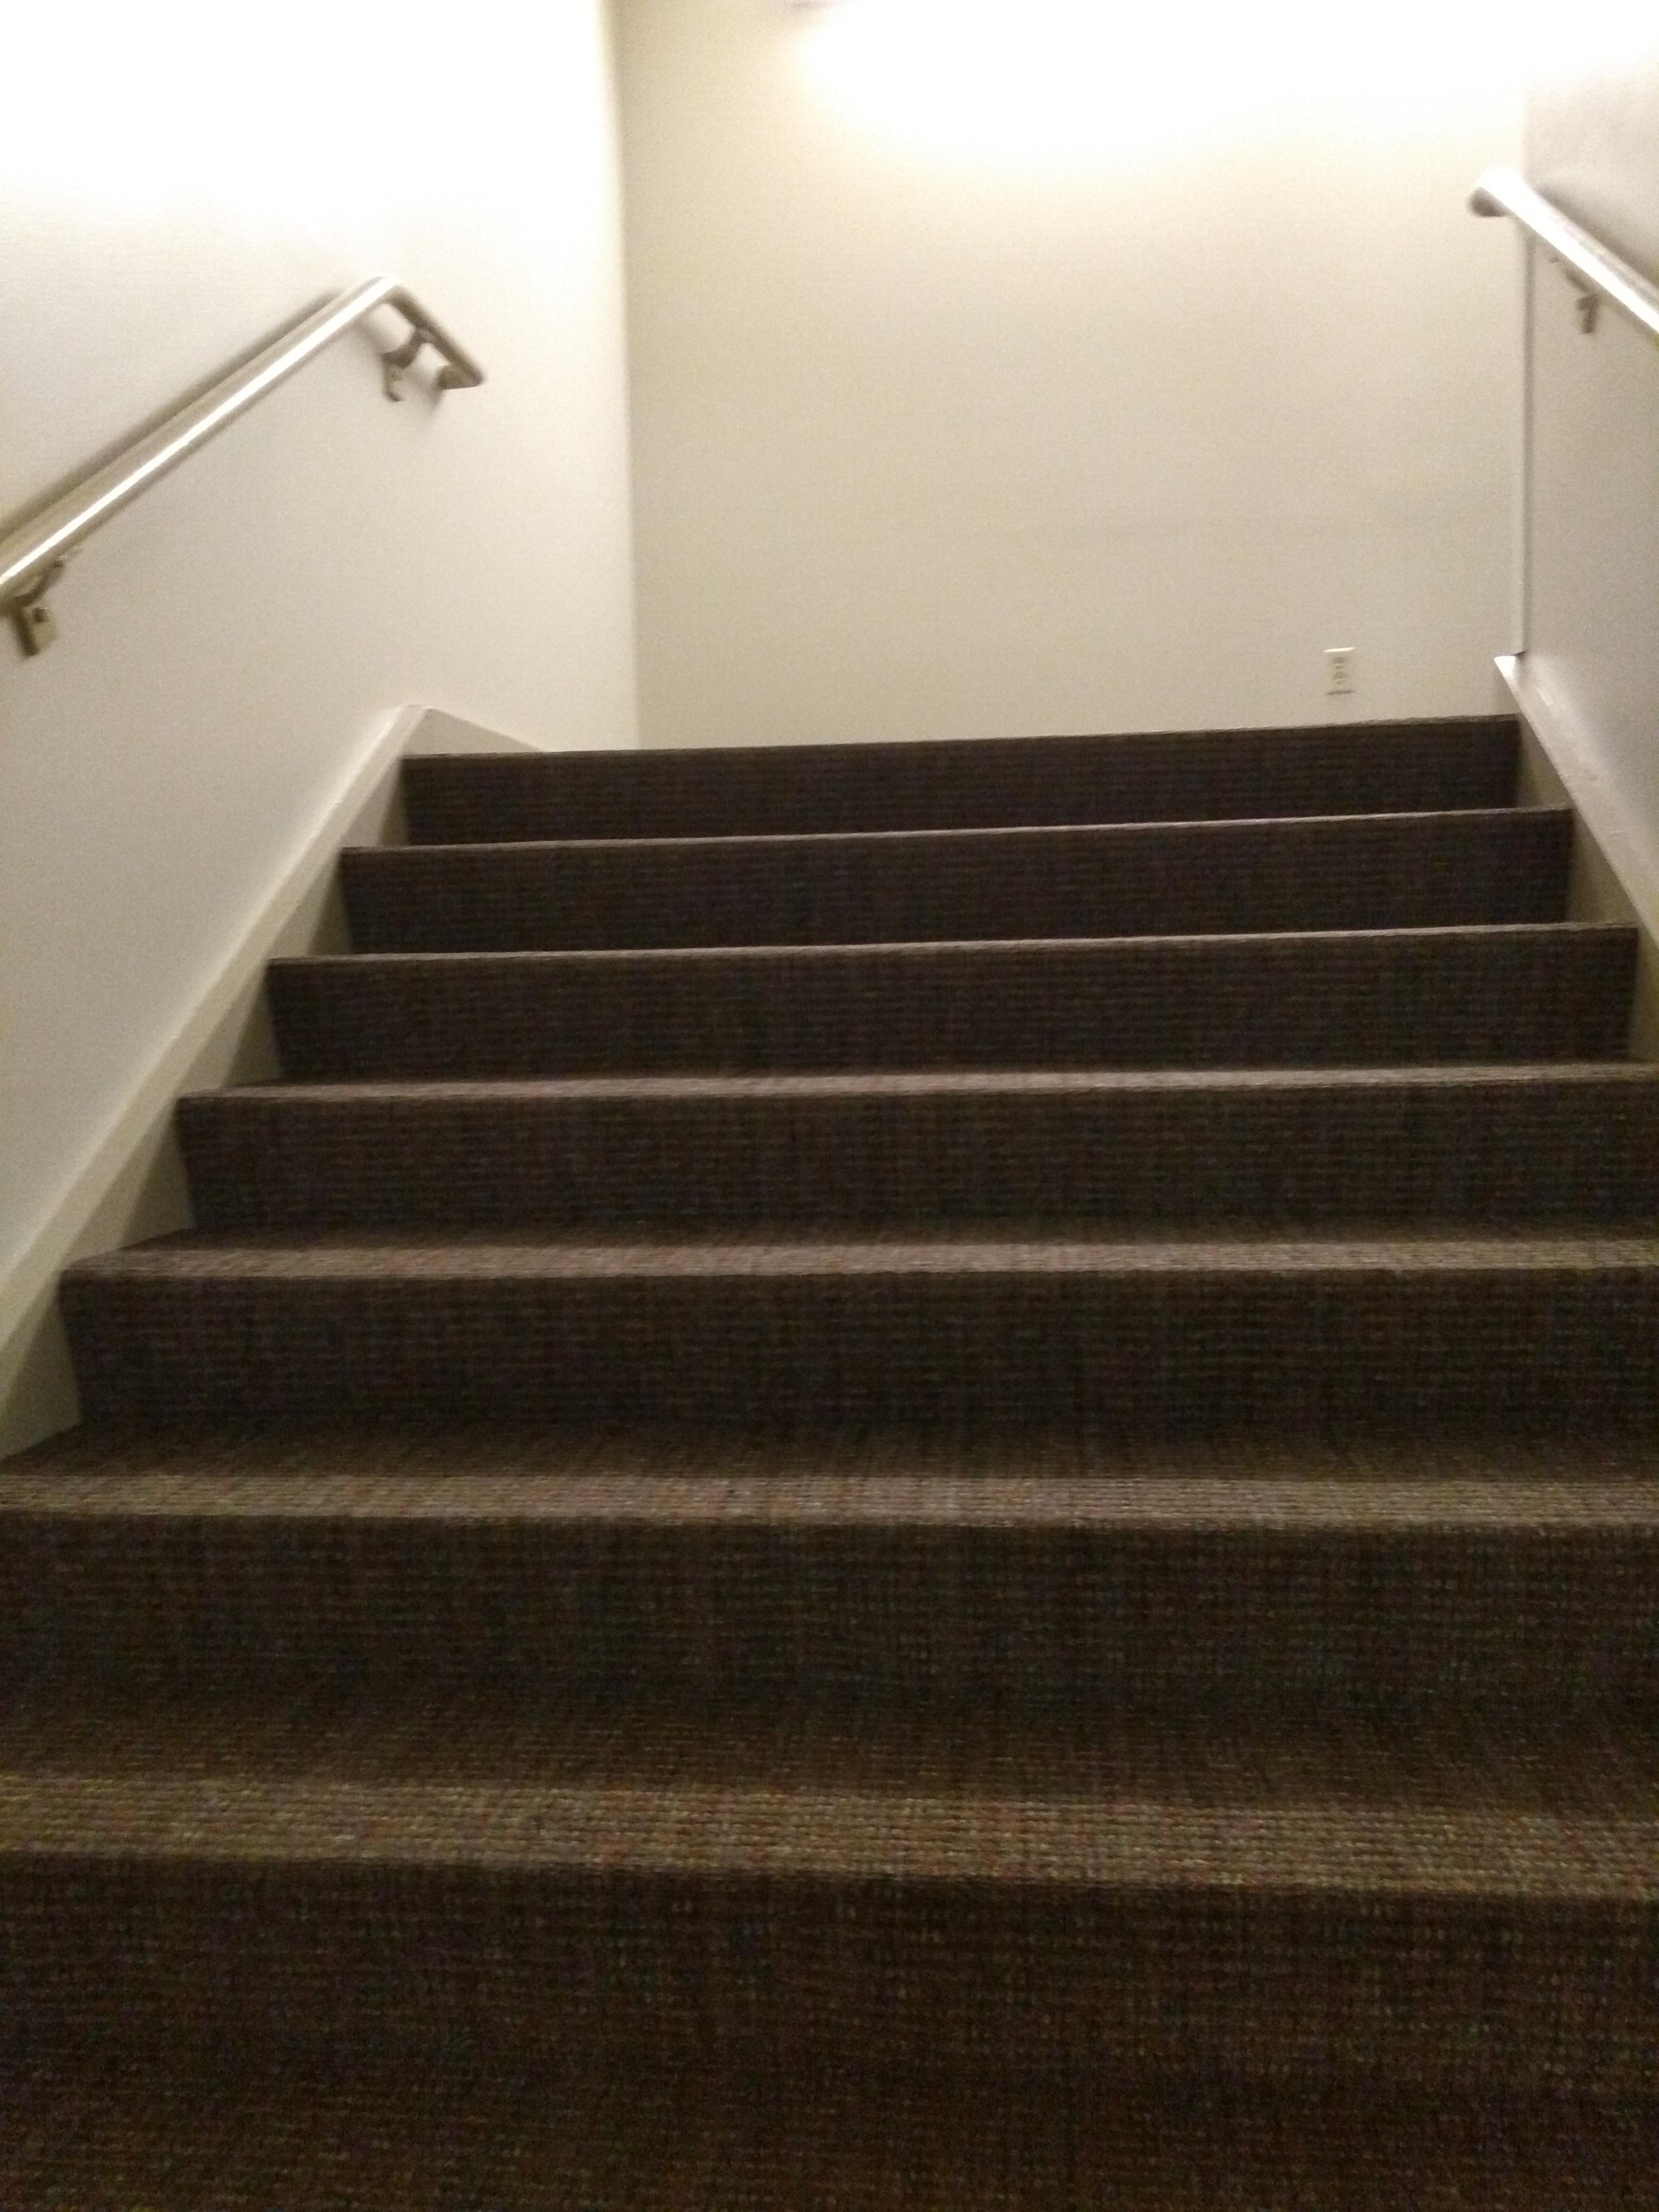stairs_up: (10, 732, 1659, 2024)
